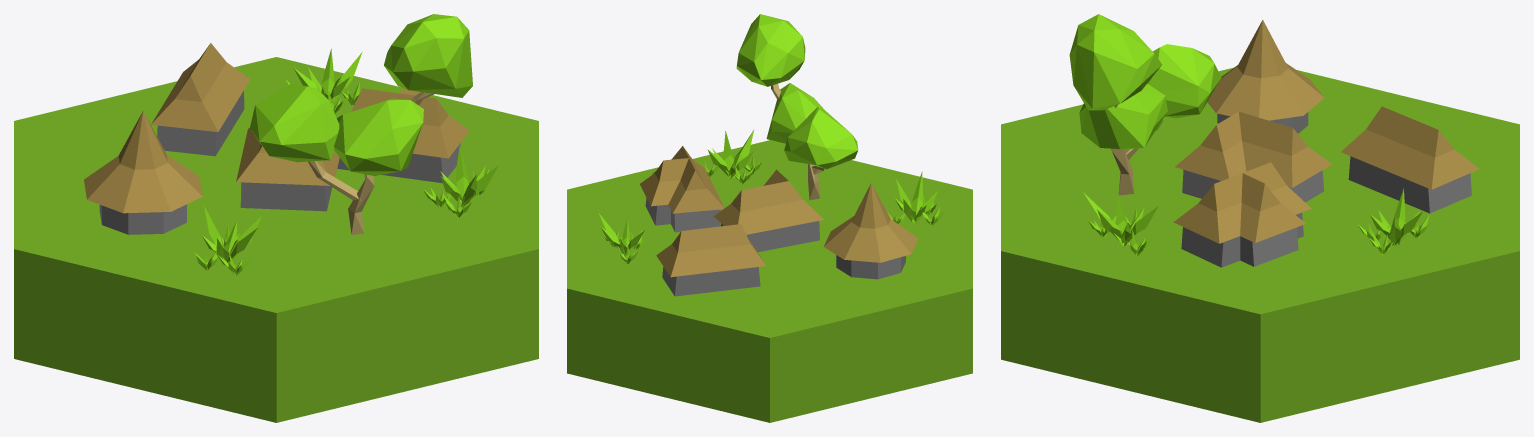
File: Casas_Selva_4.fbx
3 views of the same model, side by side, from view 1: azimuth 30°, elevation 25°; view 2: azimuth 150°, elevation 25°; view 3: azimuth 270°, elevation 25° (orthographic). The views are drawn at different scales.
Visible parts, largest first — view 1: Casas_Selva_4; view 2: Casas_Selva_4; view 3: Casas_Selva_4.
Boxes of the visible parts, x1,y1,x2,y2 form: Casas_Selva_4: [14, 14, 538, 422]; Casas_Selva_4: [567, 14, 972, 422]; Casas_Selva_4: [1001, 14, 1519, 422].
Bounding box in the file's own units: 200 × 115 × 173.
